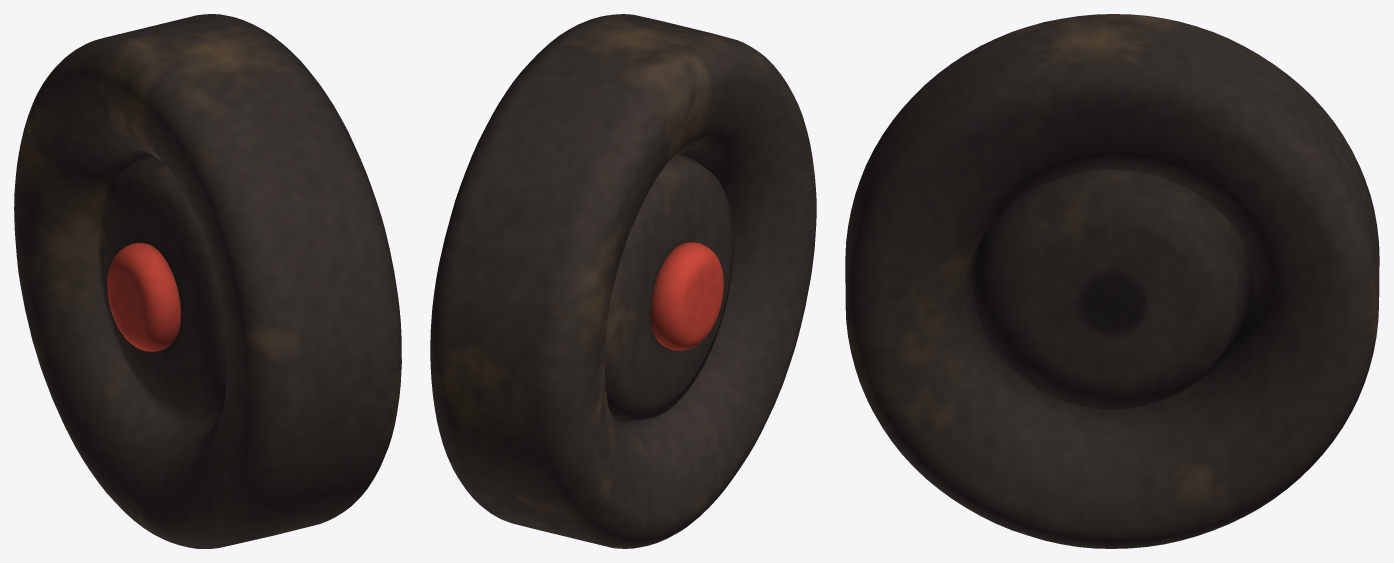
3 renders of one model, left to right at view 1: azimuth 30°, elevation 25°; view 2: azimuth 150°, elevation 25°; view 3: azimuth 270°, elevation 25°, orthographic. The views are drawn at different scales.
Parts seen in each view (by area): view 1: wheel_RR; view 2: wheel_RR; view 3: wheel_RR.
Boxes of the visible parts, bbox=[...] form: wheel_RR: bbox=[14, 14, 401, 548]; wheel_RR: bbox=[430, 14, 816, 548]; wheel_RR: bbox=[845, 14, 1379, 548].
Size of the model in its own units: 0.0828 by 0.2395 by 0.2394.
Materials: 1 (1 with a texture image).
